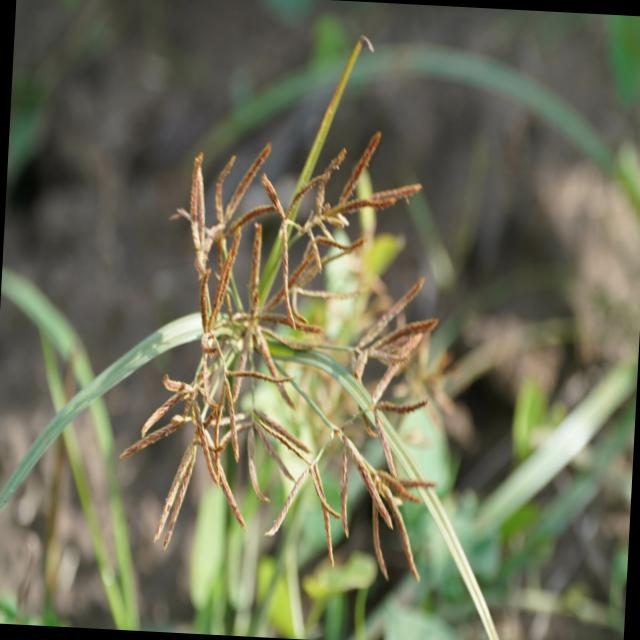cyperus: (109, 77, 462, 590)
